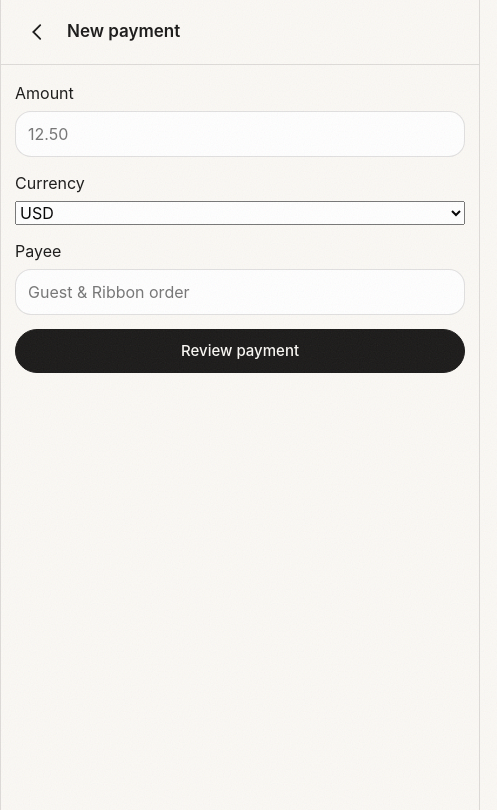
Test: Propose screen › rejects a non-numeric amount without touching the network
In the field labelled "Amount": (240, 134) top-left (15, 111), bottom-right (465, 157), type "not-a-number"
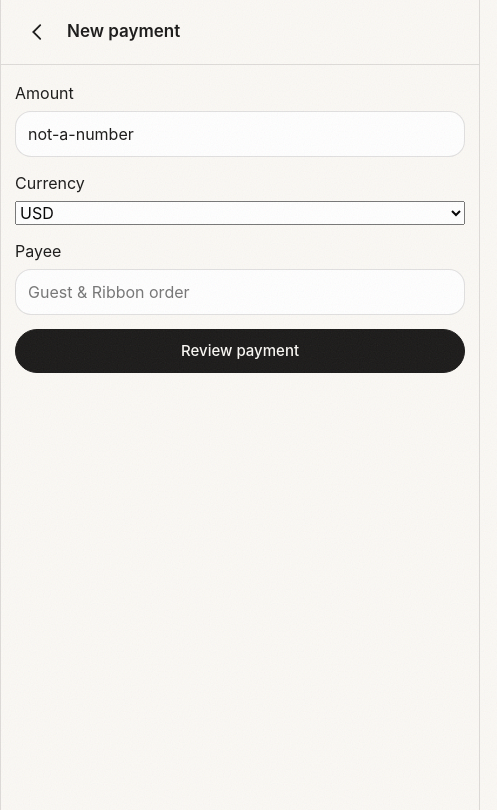
Click the button "Review payment": (240, 351) top-left (15, 329), bottom-right (465, 373)
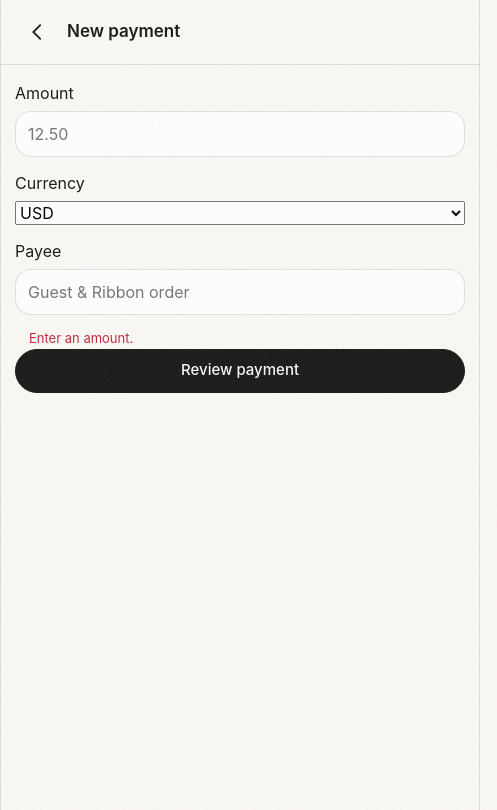
Check: the text "Enter an amount." is shown, box top-left (29, 330), bottom-right (133, 346)
